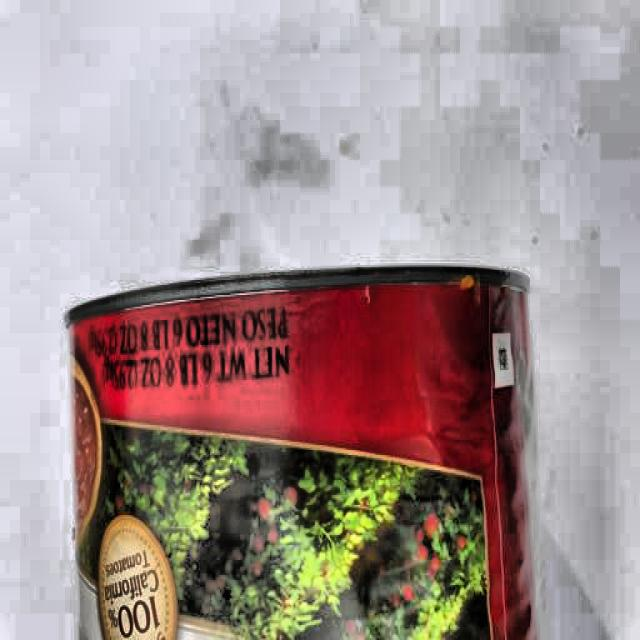metal: (55, 262, 535, 640)
